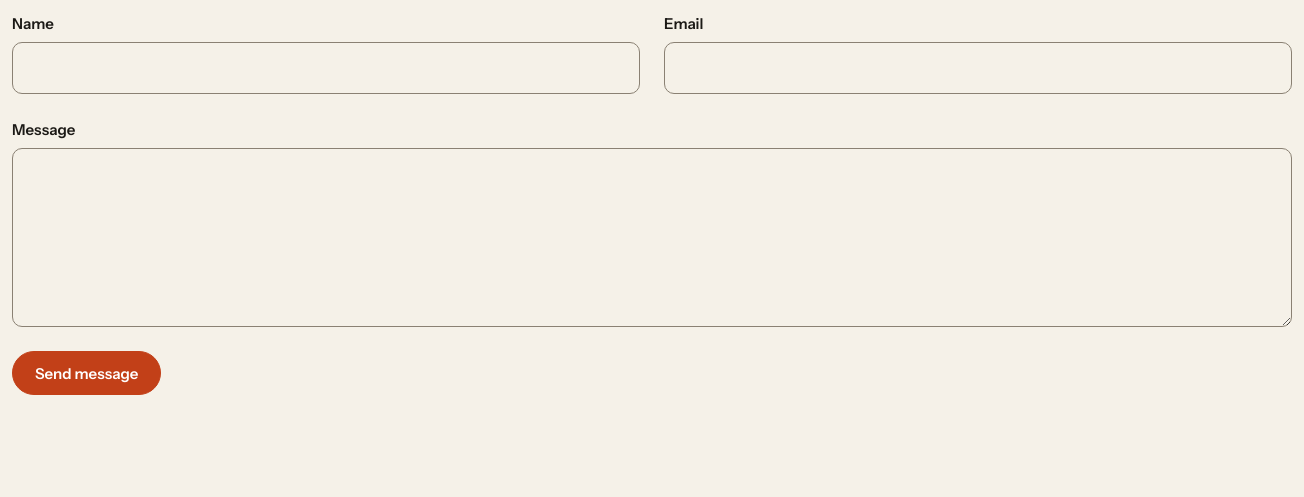
Test case: ContactForm › shows an error with the email address as a fallback
Type "Ada Lovelace" into the field labelled "Name" at point(326, 68), box [12, 42, 640, 94]
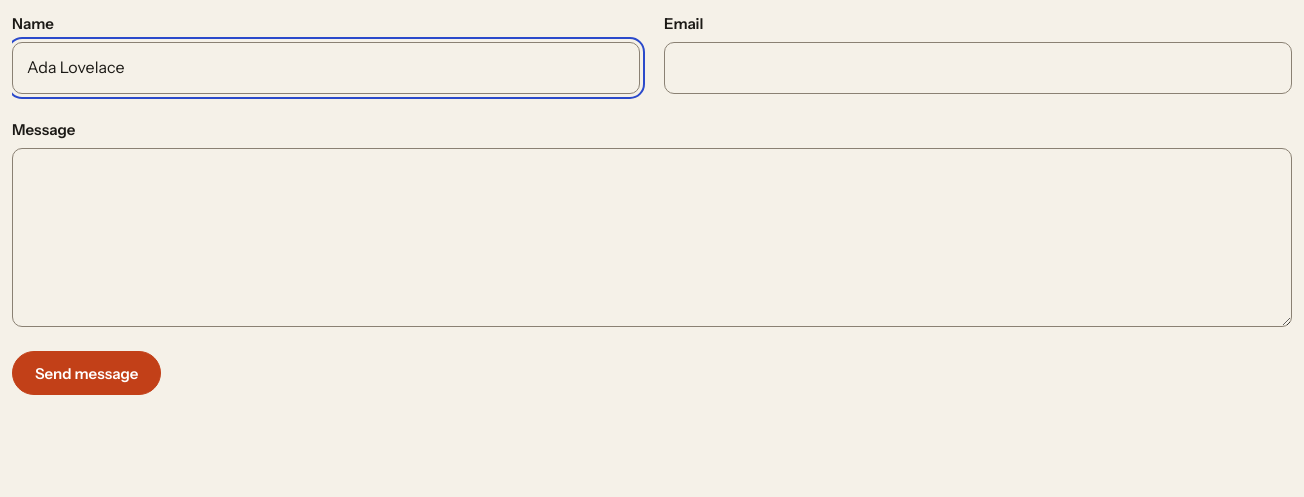
Type "ada@example.com" into the field labelled "Email" at point(978, 68), box [664, 42, 1292, 94]
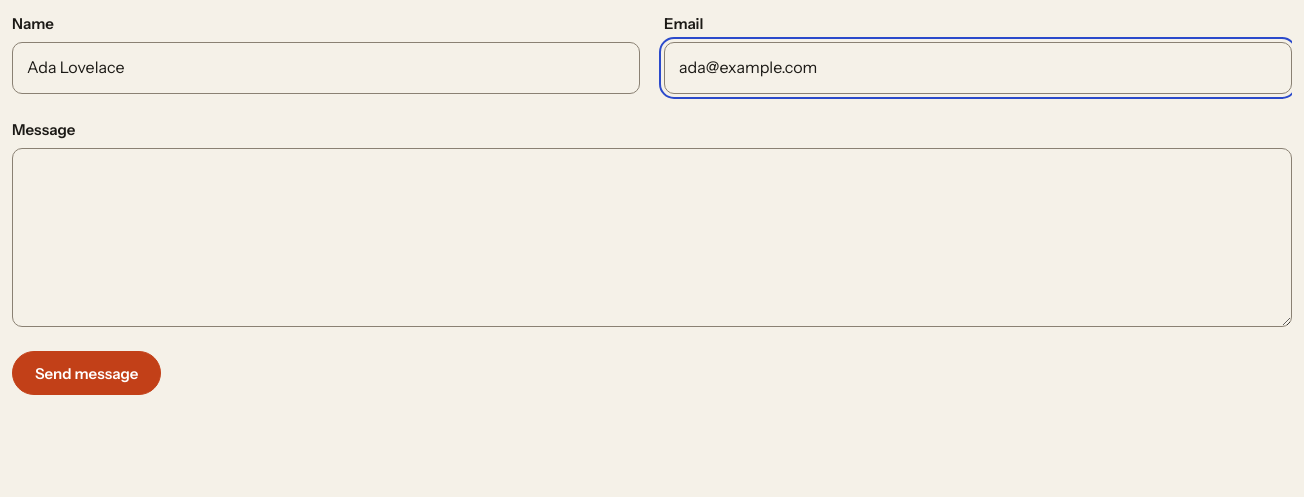
Type "We have a graduate role on our platform team." into the text box labelled "Message" at point(652, 237), box [12, 148, 1292, 327]
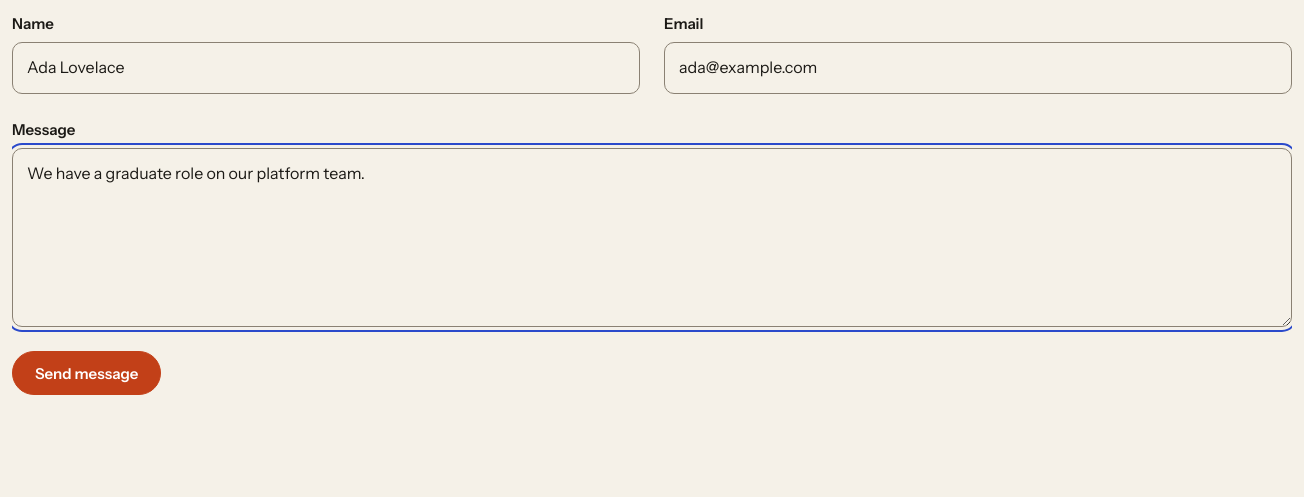
Click the button "Send message" at point(87, 373), box [12, 351, 161, 395]
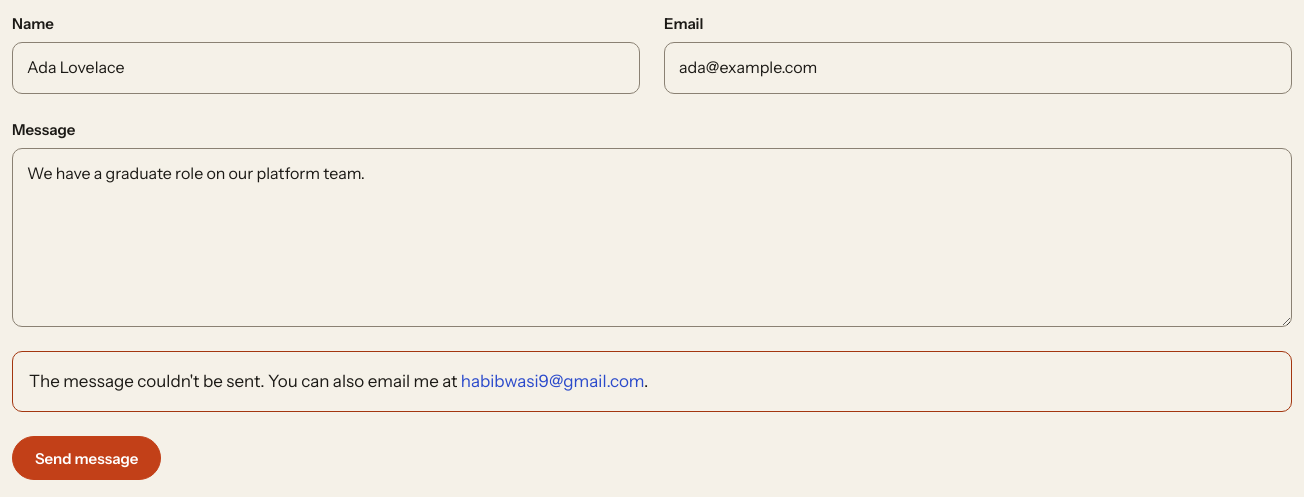
Expected: the button "Send message" is enabled, [12, 436, 161, 480]
Expected: the message shows "The message couldn't be sent.", [29, 371, 265, 391]
